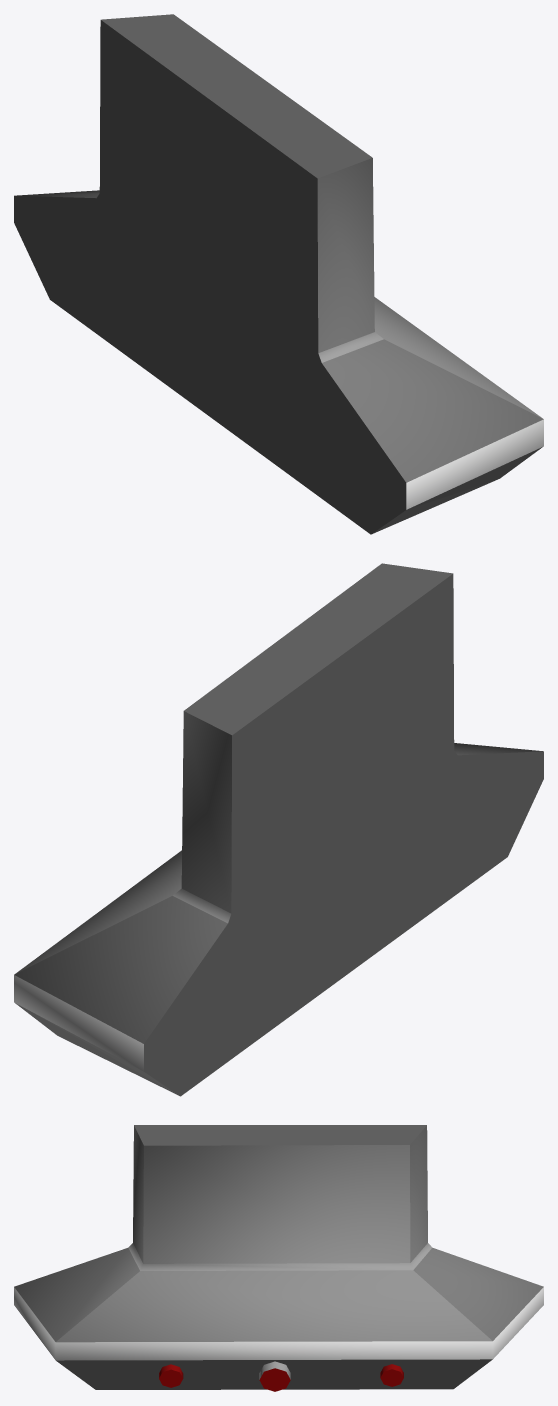
The model's file is Ventilator.fbx.
3 renders of one model, top to bottom at view 1: azimuth 30°, elevation 25°; view 2: azimuth 150°, elevation 25°; view 3: azimuth 270°, elevation 25°, orthographic. The views are drawn at different scales.
Parts seen in each view (by area): view 1: Ventilator; view 2: Ventilator; view 3: Ventilator.
Part boxes in pixels (x1,y1,x2,y2): Ventilator: (14, 14, 543, 534); Ventilator: (14, 563, 543, 1096); Ventilator: (14, 1125, 543, 1391).
Bounding box in the file's own units: 30.44 × 51.56 × 116.
